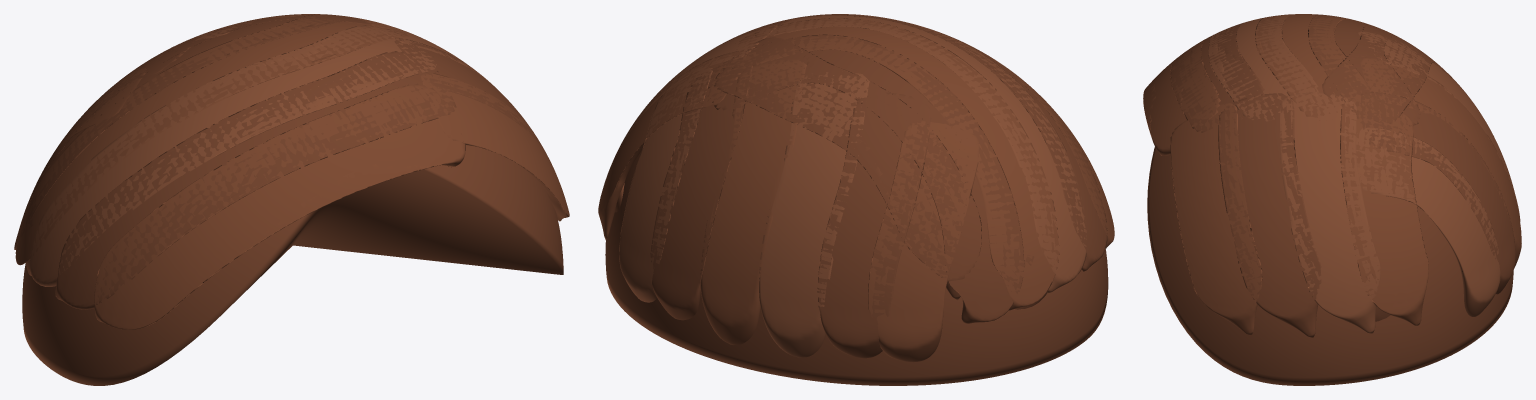
The model's file is Masculine-sidepart-closed-hair.glb.
3 views of the same model, side by side, from view 1: azimuth 30°, elevation 25°; view 2: azimuth 150°, elevation 25°; view 3: azimuth 270°, elevation 25° (orthographic). The views are drawn at different scales.
Visible parts, largest first — view 1: 226 hair / Hair / sculpted 0.001, 226 hair / Hair / sculpted 1.002, 226 hair / Hair / sculpted 1.001, 226 hair / Hair / sculpted 2.001; view 2: 226 hair / Hair / sculpted 1.001, 226 hair / Hair / sculpted 0.001, 226 hair / Hair / sculpted 2.001, 226 hair / Hair / sculpted 1.002; view 3: 226 hair / Hair / sculpted 0.001, 226 hair / Hair / sculpted 1.001, 226 hair / Hair / sculpted 2.001, 226 hair / Hair / sculpted 1.002.
Boxes of the visible parts, x1,y1,x2,y2 form: 226 hair / Hair / sculpted 0.001: [15, 14, 569, 329]; 226 hair / Hair / sculpted 1.002: [22, 145, 563, 385]; 226 hair / Hair / sculpted 1.001: [14, 14, 547, 309]; 226 hair / Hair / sculpted 2.001: [29, 18, 490, 286]; 226 hair / Hair / sculpted 1.001: [615, 14, 1107, 358]; 226 hair / Hair / sculpted 0.001: [598, 18, 1114, 362]; 226 hair / Hair / sculpted 2.001: [609, 14, 1086, 357]; 226 hair / Hair / sculpted 1.002: [605, 151, 1108, 385]; 226 hair / Hair / sculpted 0.001: [1143, 14, 1521, 335]; 226 hair / Hair / sculpted 1.001: [1170, 14, 1515, 337]; 226 hair / Hair / sculpted 2.001: [1208, 14, 1520, 333]; 226 hair / Hair / sculpted 1.002: [1147, 146, 1513, 385].
Bounding box in the file's own units: 0.96 × 0.5092 × 0.723.
